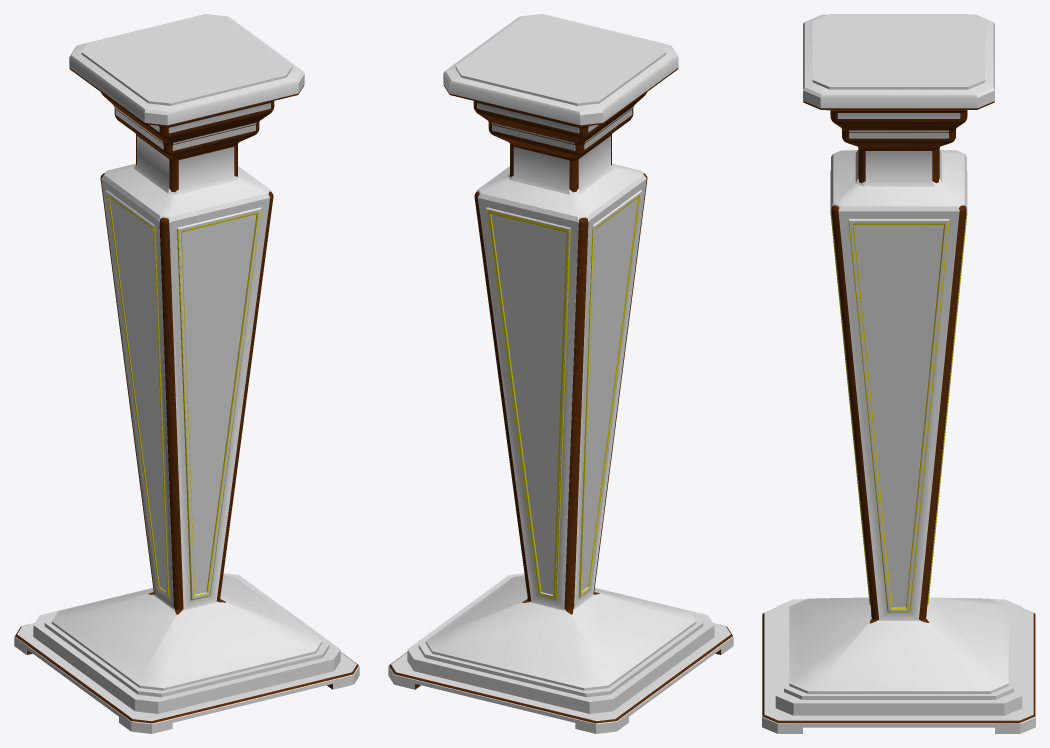
File: colonne_bois_low.fbx
3 renders of one model, left to right at view 1: azimuth 30°, elevation 25°; view 2: azimuth 150°, elevation 25°; view 3: azimuth 270°, elevation 25°, orthographic. The views are drawn at different scales.
Visible parts, largest first — view 1: Colonne_low, Colonne_high; view 2: Colonne_low, Colonne_high; view 3: Colonne_low, Colonne_high.
Boxes of the visible parts, <box> form: Colonne_low: <box>14,14,359,733</box>; Colonne_high: <box>15,68,358,723</box>; Colonne_low: <box>388,14,733,733</box>; Colonne_high: <box>389,68,732,723</box>; Colonne_low: <box>762,14,1035,733</box>; Colonne_high: <box>762,101,1035,723</box>.
Size of the model in its own units: 45.25 by 114 by 45.25.
